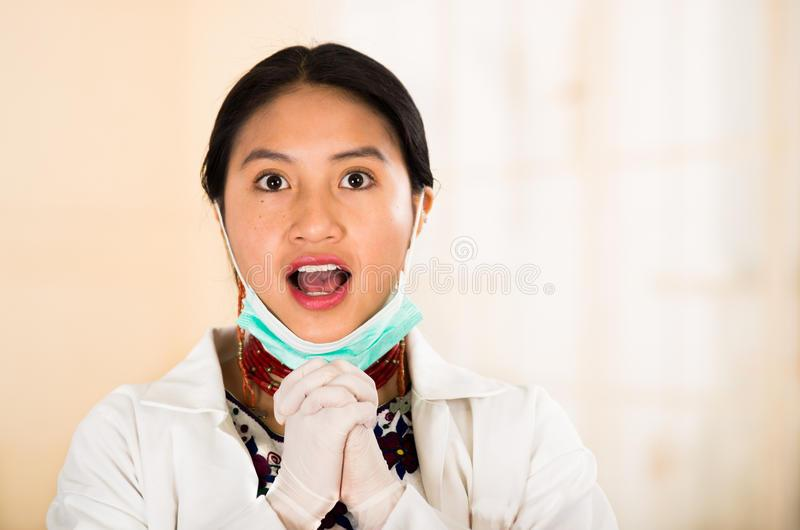Wore Mask Incorrectly: (195, 62, 489, 412)
